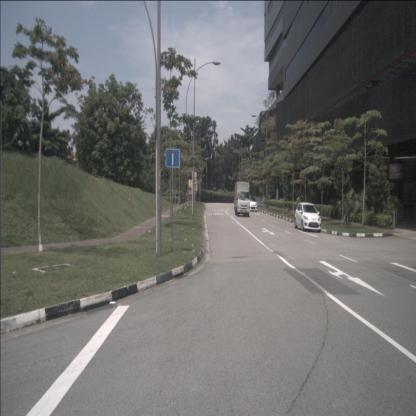vehicle-bicycle: (340, 207, 352, 229)
vehicle-car: (294, 202, 322, 232), (244, 195, 258, 212)
vehicle-truck: (234, 182, 250, 216)
